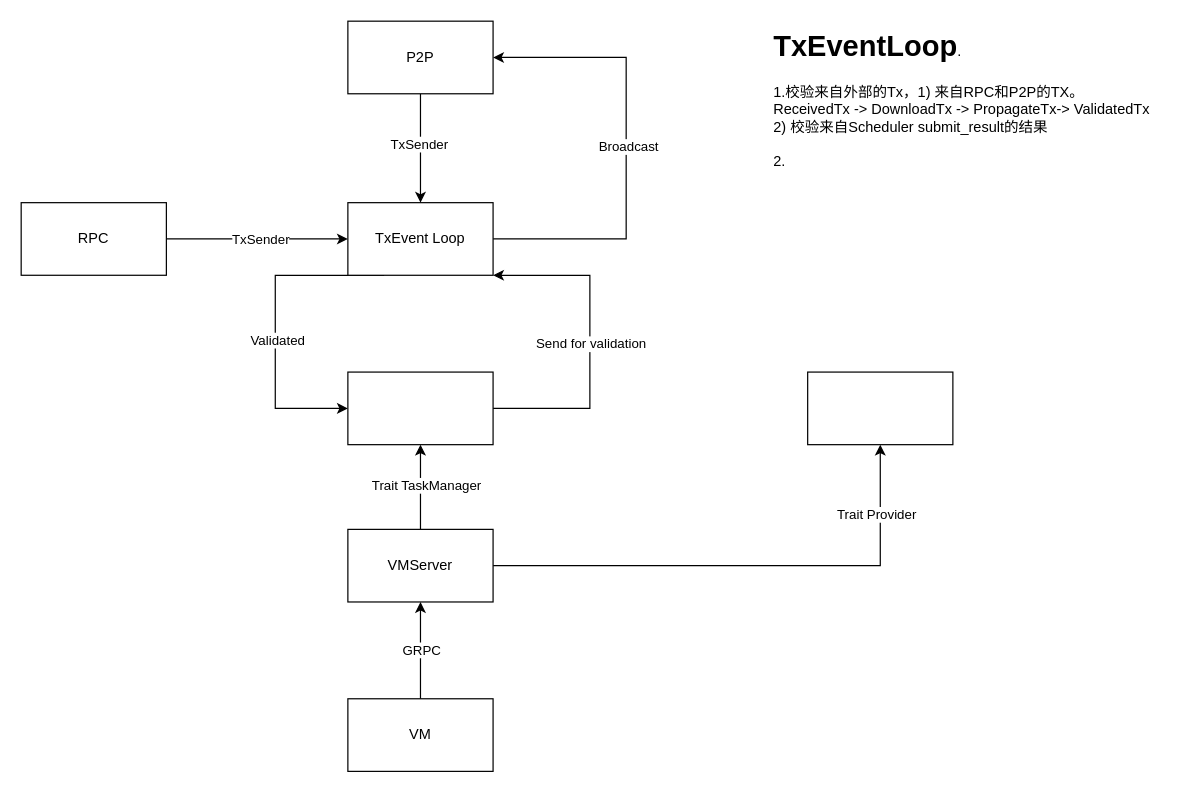
This 1180x793 diagram has some shape labels left out. Here are the shapes that lost their labels. From the top down, the centre of each, then its label:
(420,408): Scheduler
(879,408): Qemu
